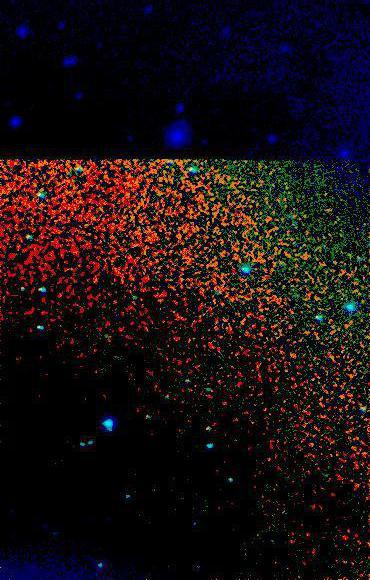star: (79, 265, 109, 295)
